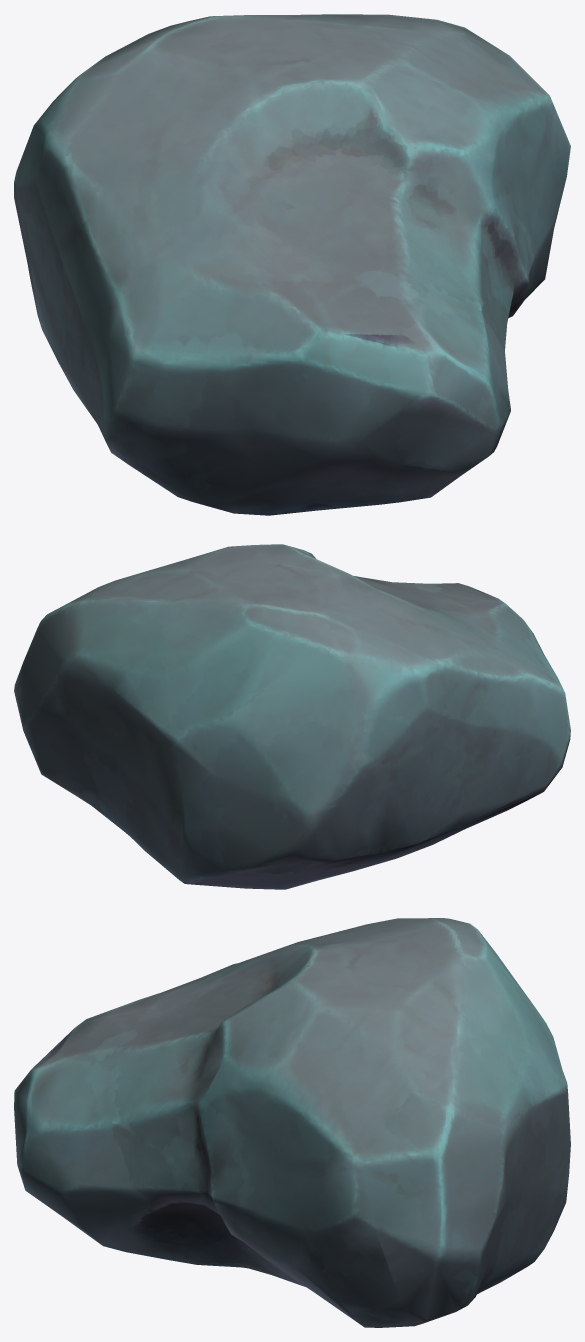
Rendered from rock1.glb.
3 views of the same model, one above another, from view 1: azimuth 30°, elevation 25°; view 2: azimuth 150°, elevation 25°; view 3: azimuth 270°, elevation 25° (orthographic). The views are drawn at different scales.
Visible parts, largest first — view 1: rock1; view 2: rock1; view 3: rock1.
Boxes of the visible parts, x1,y1,x2,y2 form: rock1: (14,14,570,515); rock1: (14,544,570,889); rock1: (14,918,570,1327).
Size of the model in its own units: 3.25 by 2.02 by 3.18.
1 material, 1 textured.
